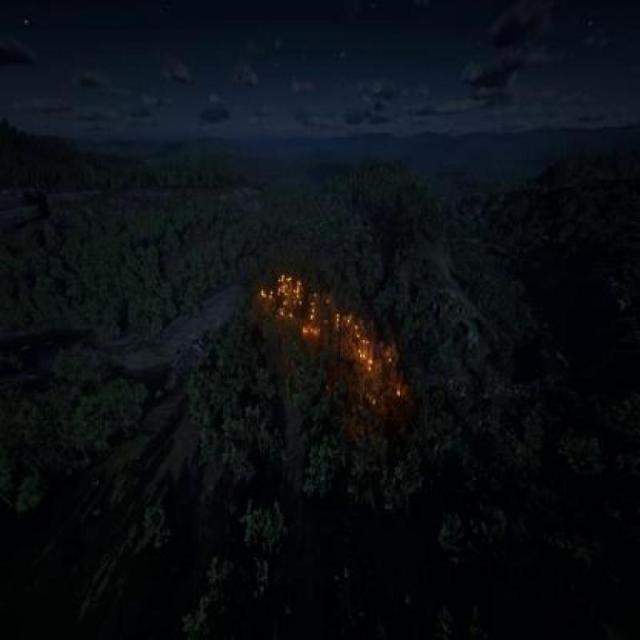Fire: (336, 304, 398, 379), (256, 252, 298, 328), (302, 286, 330, 362), (363, 384, 414, 410)
